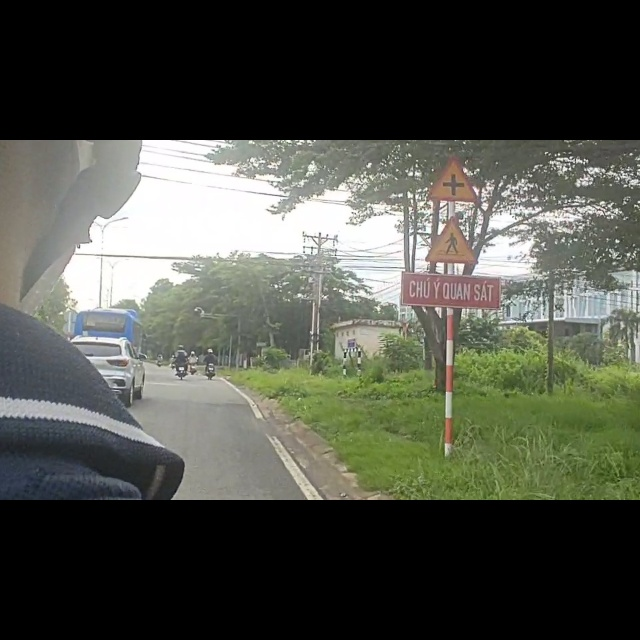bien_nguy_hiem: (427, 26, 491, 114), (424, 132, 483, 222)
